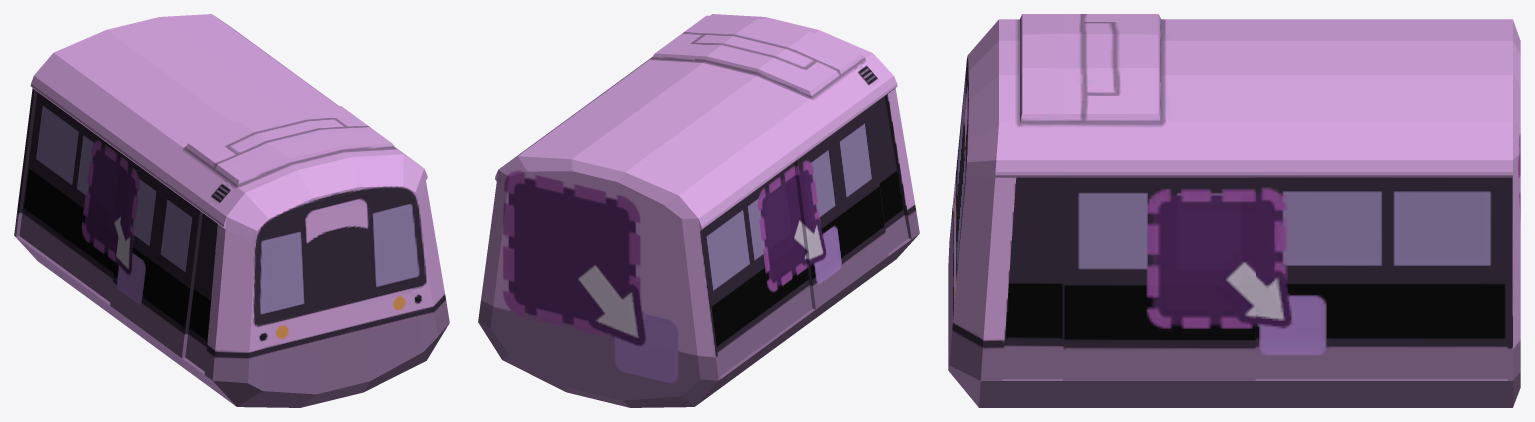
The model's file is MovingPlatformMRT_BlackShrink.fbx.
The picture shows the model from 3 angles, left to right: view 1: azimuth 30°, elevation 25°; view 2: azimuth 150°, elevation 25°; view 3: azimuth 270°, elevation 25°; orthographic projection. The views are drawn at different scales.
Parts seen in each view (by area): view 1: Cube.016; view 2: Cube.016; view 3: Cube.016.
Part boxes in pixels (x1,y1,x2,y2): Cube.016: [14, 14, 449, 407]; Cube.016: [478, 14, 919, 407]; Cube.016: [948, 14, 1520, 407].
Bounding box in the file's own units: 276 × 263 × 430.
